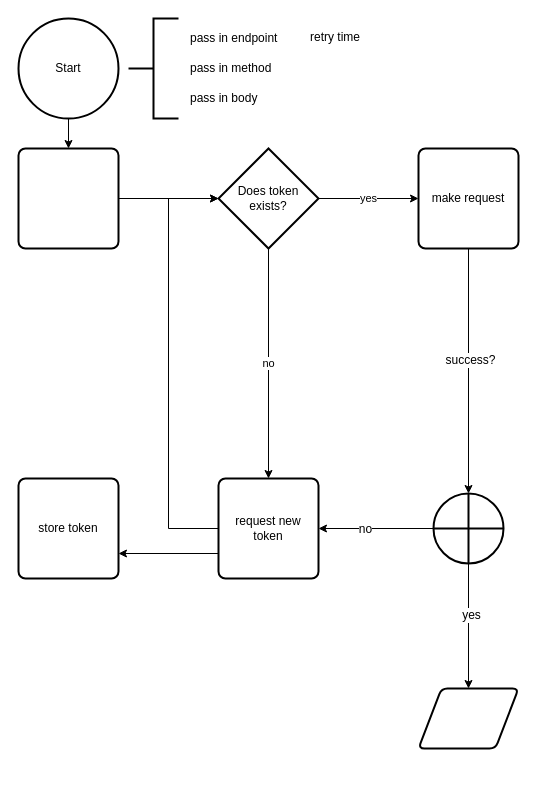
The diagram is 536 pixels wide and 786 high, and some of its shapes have lost their labels. The shapes that lost their labels are listed below. From the top down, each one's centre as x and y in pixels, then its label:
(68,198): read token
(468,718): store data
